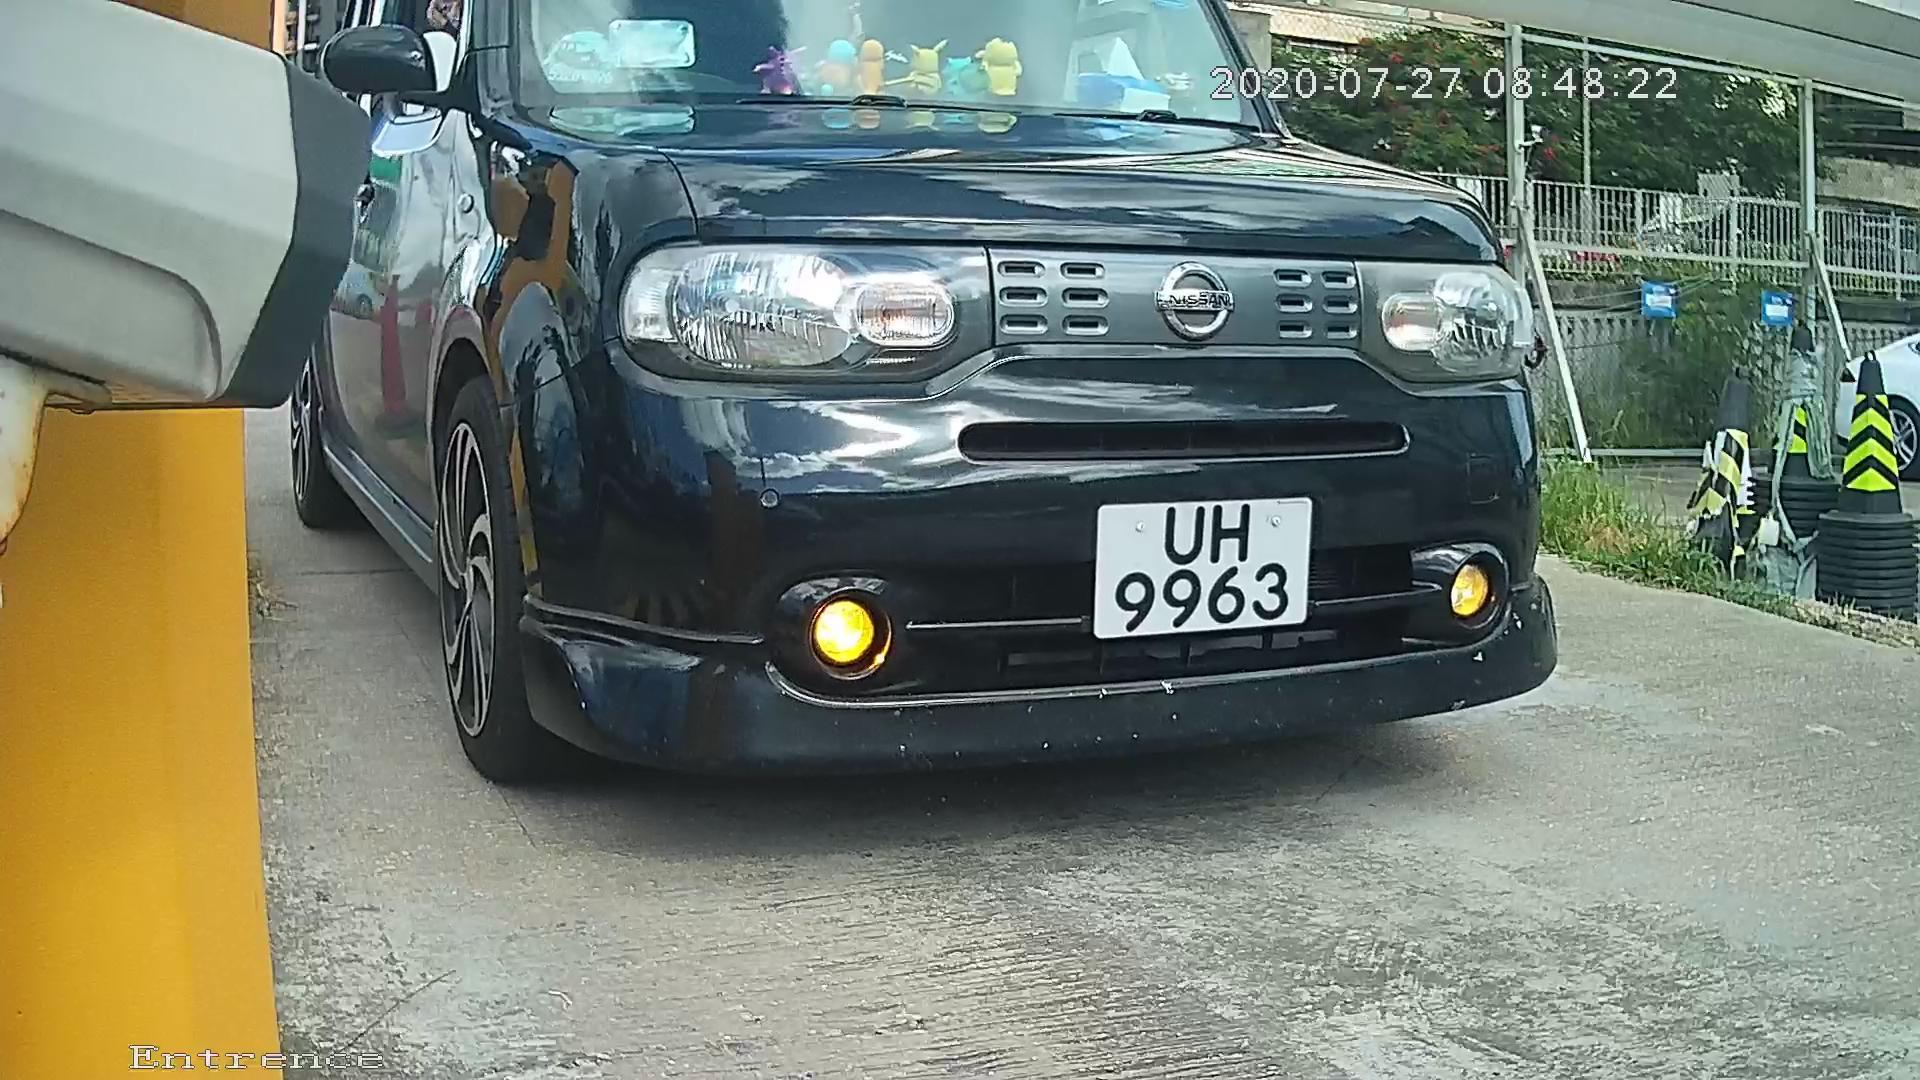License Plate: (1063, 483, 1338, 651)
